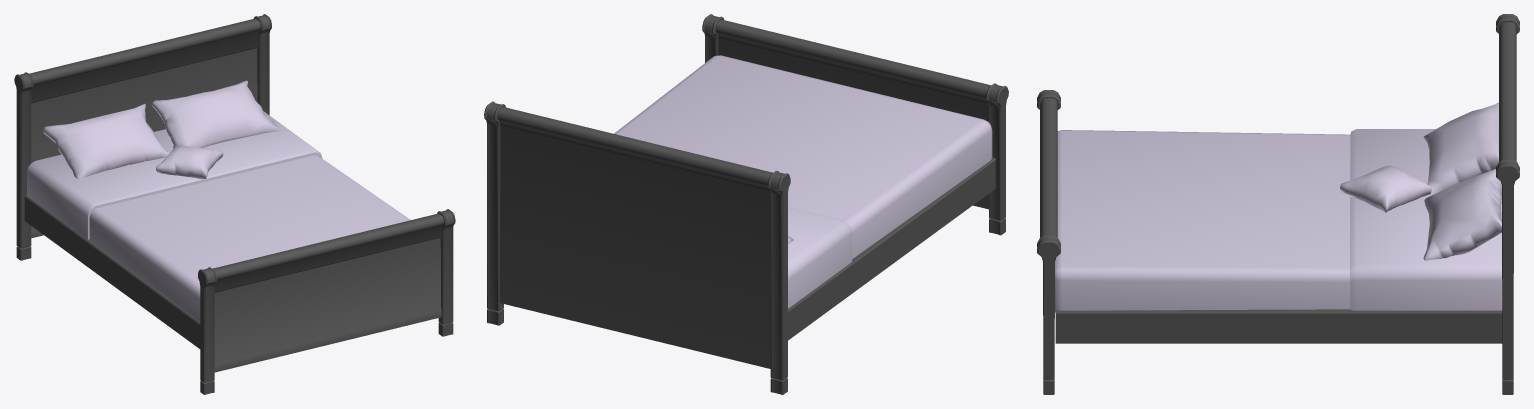
File: BDCX1012.FBX
3 renders of one model, left to right at view 1: azimuth 30°, elevation 25°; view 2: azimuth 150°, elevation 25°; view 3: azimuth 270°, elevation 25°, orthographic. The views are drawn at different scales.
Parts seen in each view (by area): view 1: BDCX1012; view 2: BDCX1012; view 3: BDCX1012.
Boxes of the visible parts, x1=… form: BDCX1012: x1=14, y1=14, x2=455, y2=394; BDCX1012: x1=484, y1=14, x2=1008, y2=394; BDCX1012: x1=1037, y1=14, x2=1519, y2=394.
Bounding box in the file's own units: 158 × 212 × 111.
